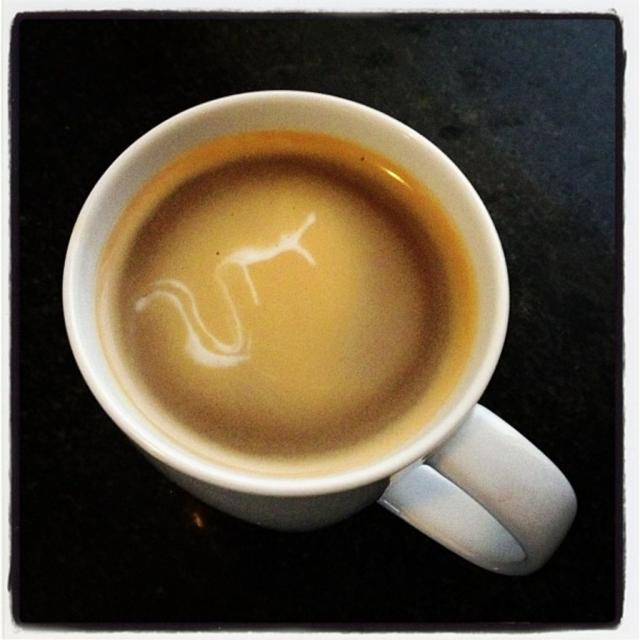Coffee: (74, 87, 540, 529)
